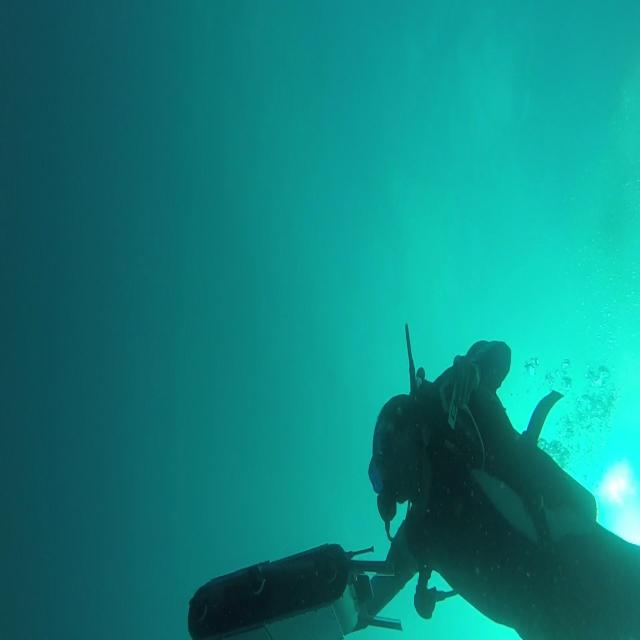human: (187, 327, 639, 638)
